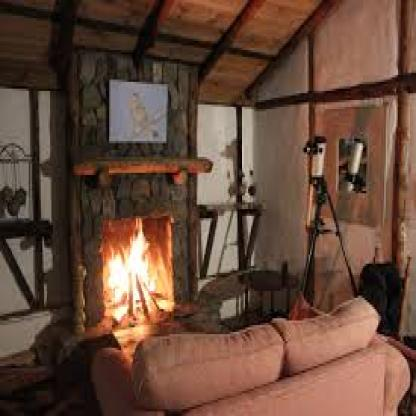fire: (99, 218, 167, 323)
